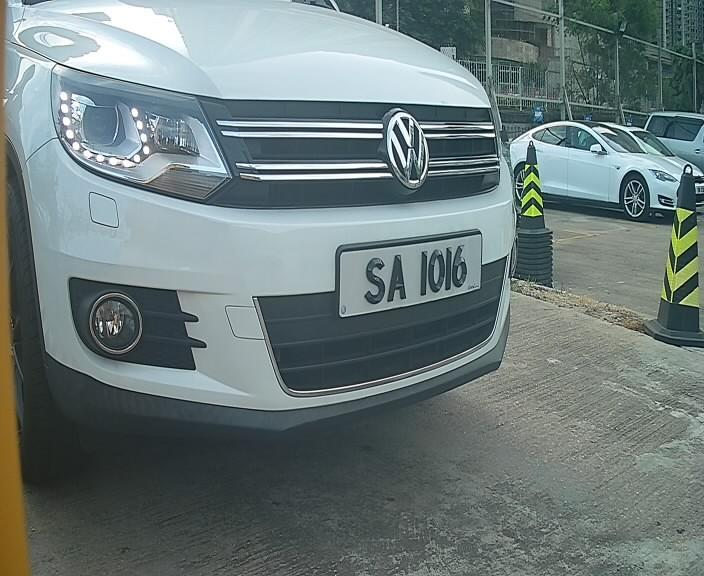privatecar: (10, 6, 557, 461)
